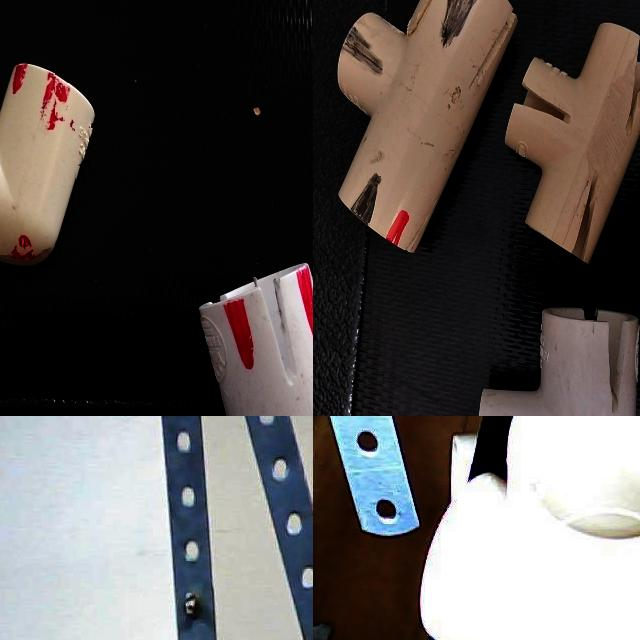Defective: (527, 282, 592, 340), (76, 166, 134, 216), (211, 53, 238, 144), (73, 128, 139, 164), (64, 83, 122, 123), (511, 149, 537, 201), (394, 169, 433, 201), (379, 213, 407, 251), (474, 386, 499, 416)
L Joint: (55, 0, 245, 247)
T Joint: (373, 140, 600, 375), (422, 416, 640, 640), (366, 364, 544, 416)
